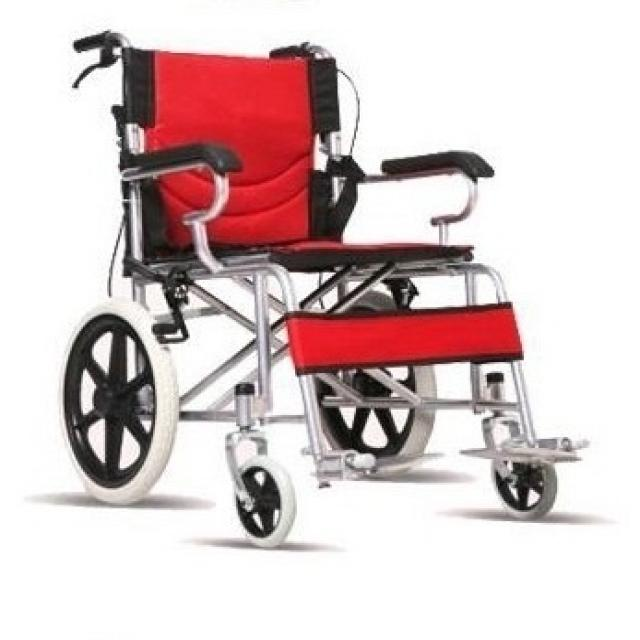wheelchair: (39, 24, 607, 557)
